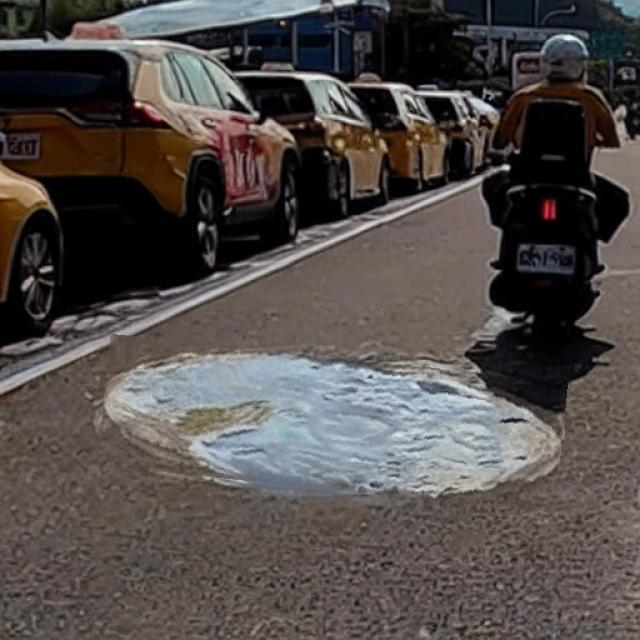puddle: (101, 347, 566, 503)
